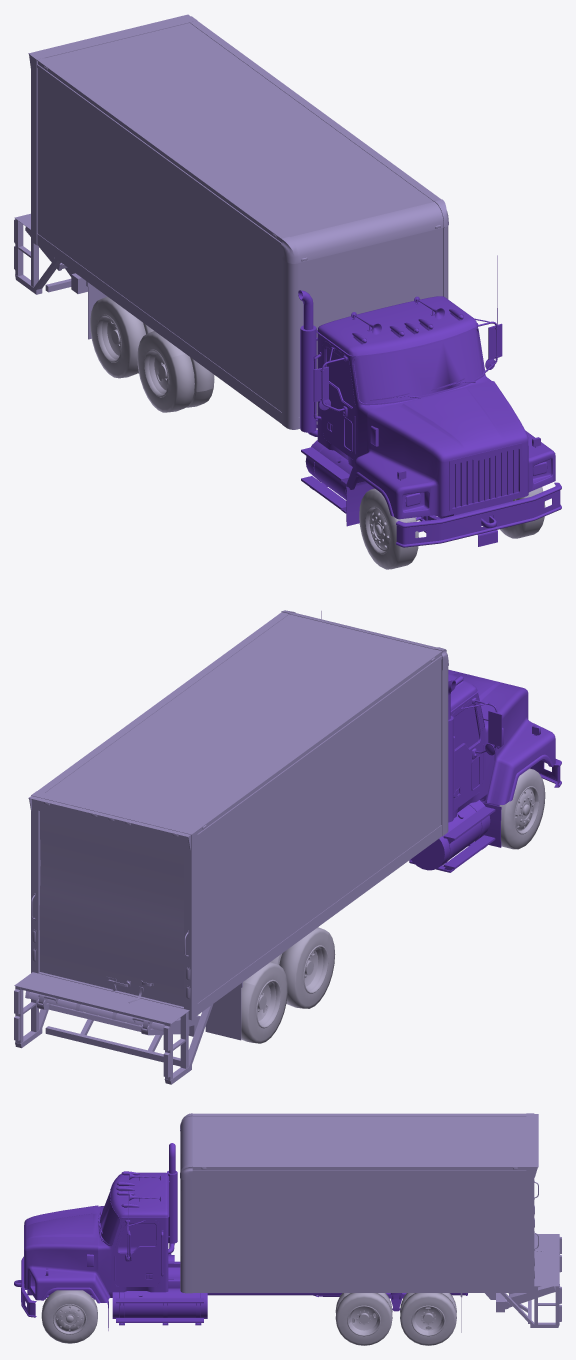
The model's file is truck.glb.
3 renders of one model, top to bottom at view 1: azimuth 30°, elevation 25°; view 2: azimuth 150°, elevation 25°; view 3: azimuth 270°, elevation 25°, orthographic. The views are drawn at different scales.
Parts seen in each view (by area): view 1: Object_6, Object_5, Object_3, Object_2, Object_7; view 2: Object_6, Object_5, Object_3, Object_2, Object_7; view 3: Object_6, Object_5, Object_3, Object_2, Object_7.
Part boxes in pixels (box(x1,y1,x2,y2)): Object_6: box(14, 14, 448, 429); Object_5: box(313, 255, 561, 547); Object_3: box(90, 296, 545, 569); Object_2: box(298, 290, 522, 532); Object_7: box(326, 329, 547, 506); Object_6: box(14, 610, 448, 1084); Object_5: box(321, 611, 561, 818); Object_3: box(241, 768, 545, 1043); Object_2: box(409, 676, 501, 872); Object_7: box(453, 703, 479, 788); Object_6: box(180, 1113, 561, 1332); Object_5: box(14, 1171, 467, 1317); Object_3: box(41, 1290, 456, 1345); Object_2: box(24, 1143, 467, 1330); Object_7: box(99, 1192, 156, 1251).
Bounding box in the file's own units: 2.83 × 3.82 × 10.49.
